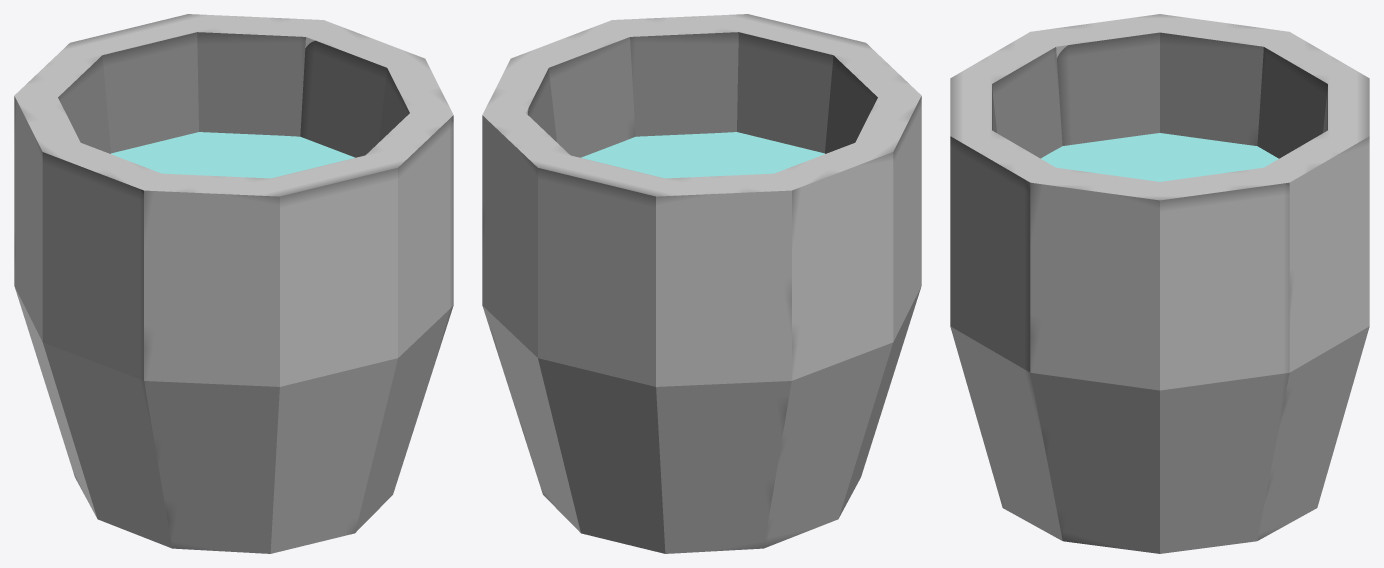
The model's file is bucket.obj.
3 views of the same model, side by side, from view 1: azimuth 30°, elevation 25°; view 2: azimuth 150°, elevation 25°; view 3: azimuth 270°, elevation 25° (orthographic).
Visible parts, largest first — view 1: tube; view 2: tube; view 3: tube.
Part boxes in pixels (x1,y1,x2,y2): tube: (14, 14, 453, 553); tube: (482, 14, 921, 553); tube: (950, 14, 1369, 553).
Bounding box in the file's own units: 1.05 × 1 × 1.
1 material, 1 textured.
